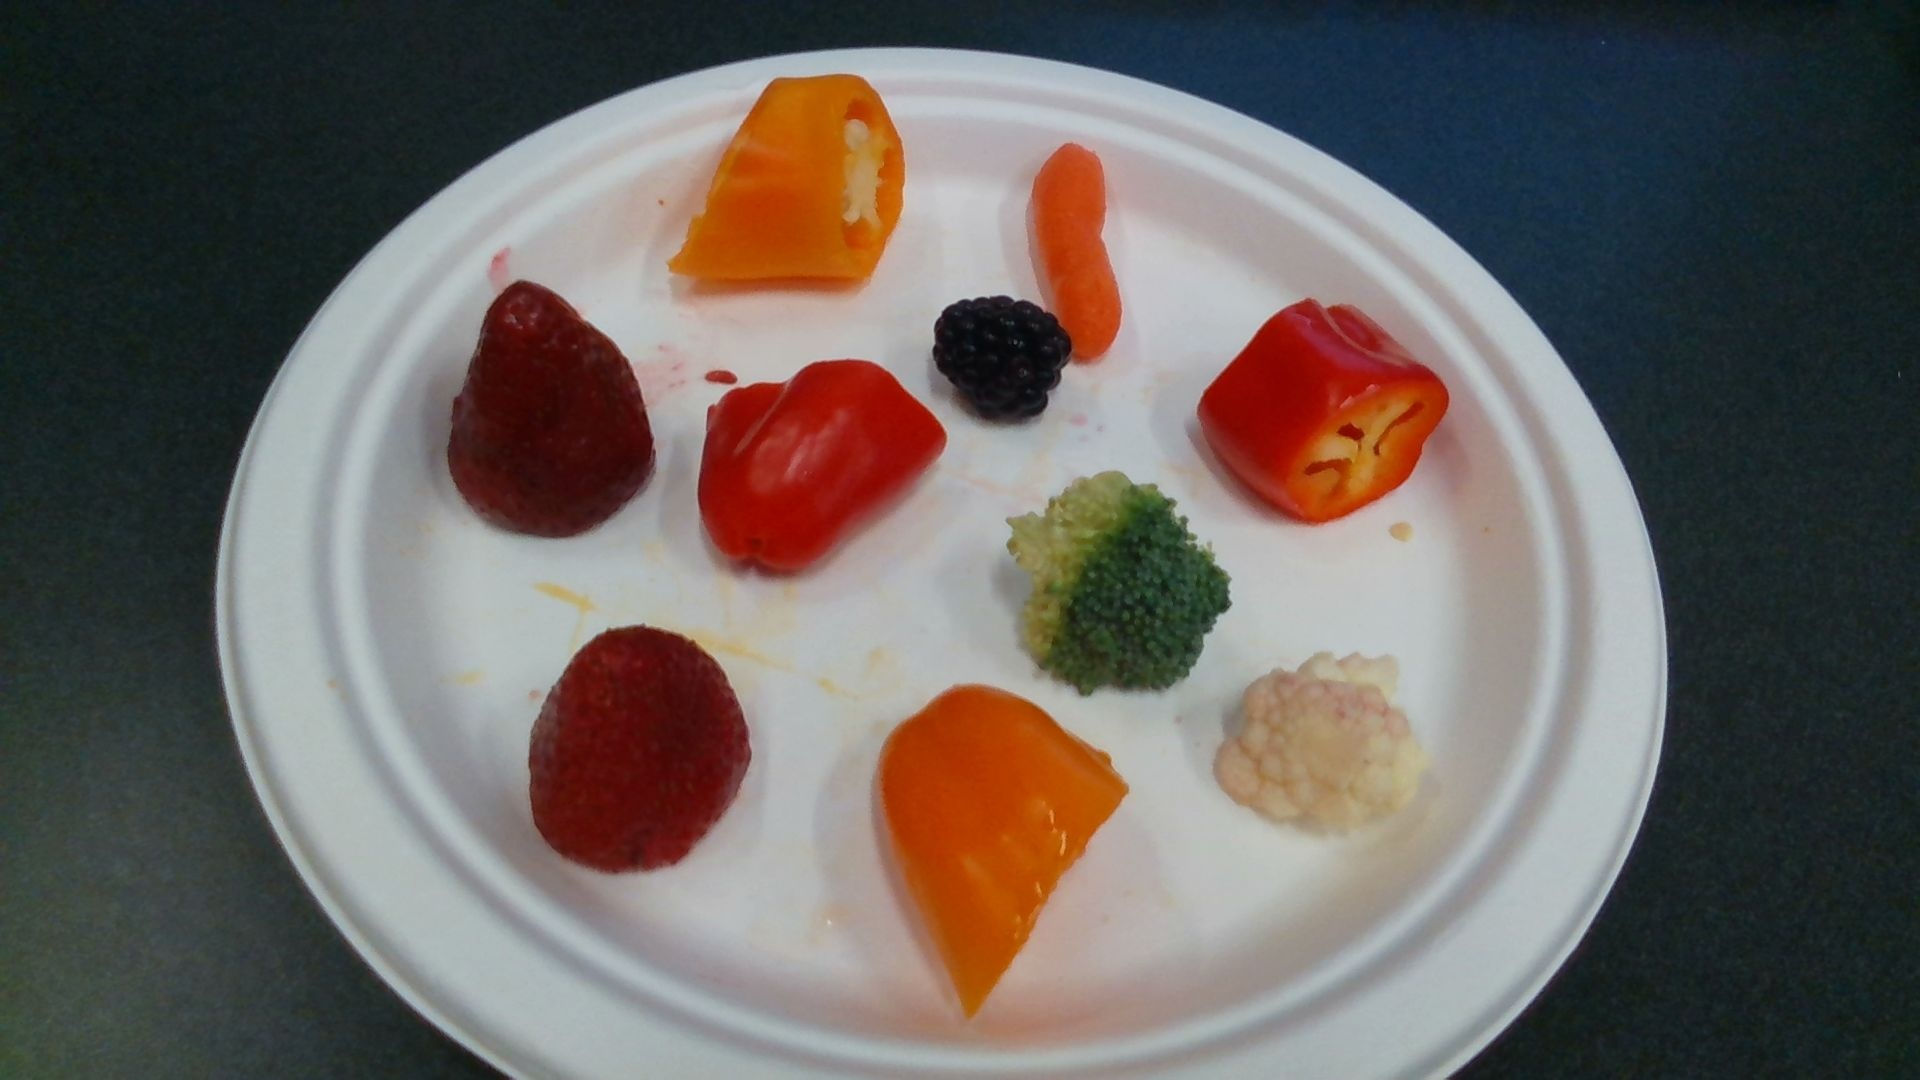bell_pepper: (884, 686, 1129, 1015), (1200, 301, 1449, 521), (699, 361, 947, 574), (675, 76, 905, 285)
blackberry: (935, 298, 1069, 421)
broccoli: (1005, 473, 1230, 686)
carrot: (1030, 145, 1122, 363)
cauliflower: (1218, 658, 1424, 836)
strawberry: (531, 628, 749, 876), (448, 285, 655, 541)
